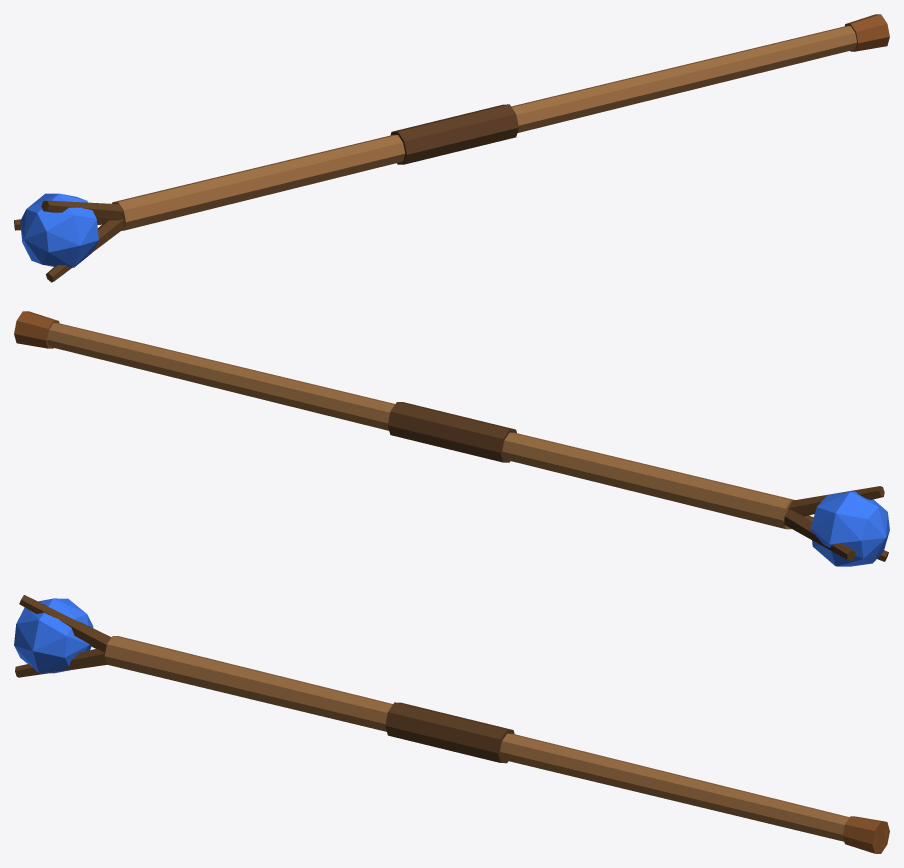
The model's file is drop_staff_water.glb.
3 renders of one model, top to bottom at view 1: azimuth 30°, elevation 25°; view 2: azimuth 150°, elevation 25°; view 3: azimuth 330°, elevation 25°, orthographic.
Visible parts, largest first — view 1: drop_staff_water; view 2: drop_staff_water; view 3: drop_staff_water.
Boxes of the visible parts, x1,y1,x2,y2 form: drop_staff_water: [14, 14, 889, 282]; drop_staff_water: [14, 311, 889, 566]; drop_staff_water: [14, 595, 889, 853].
Bounding box in the file's own units: 0.8425 × 0.0742 × 0.0762.
